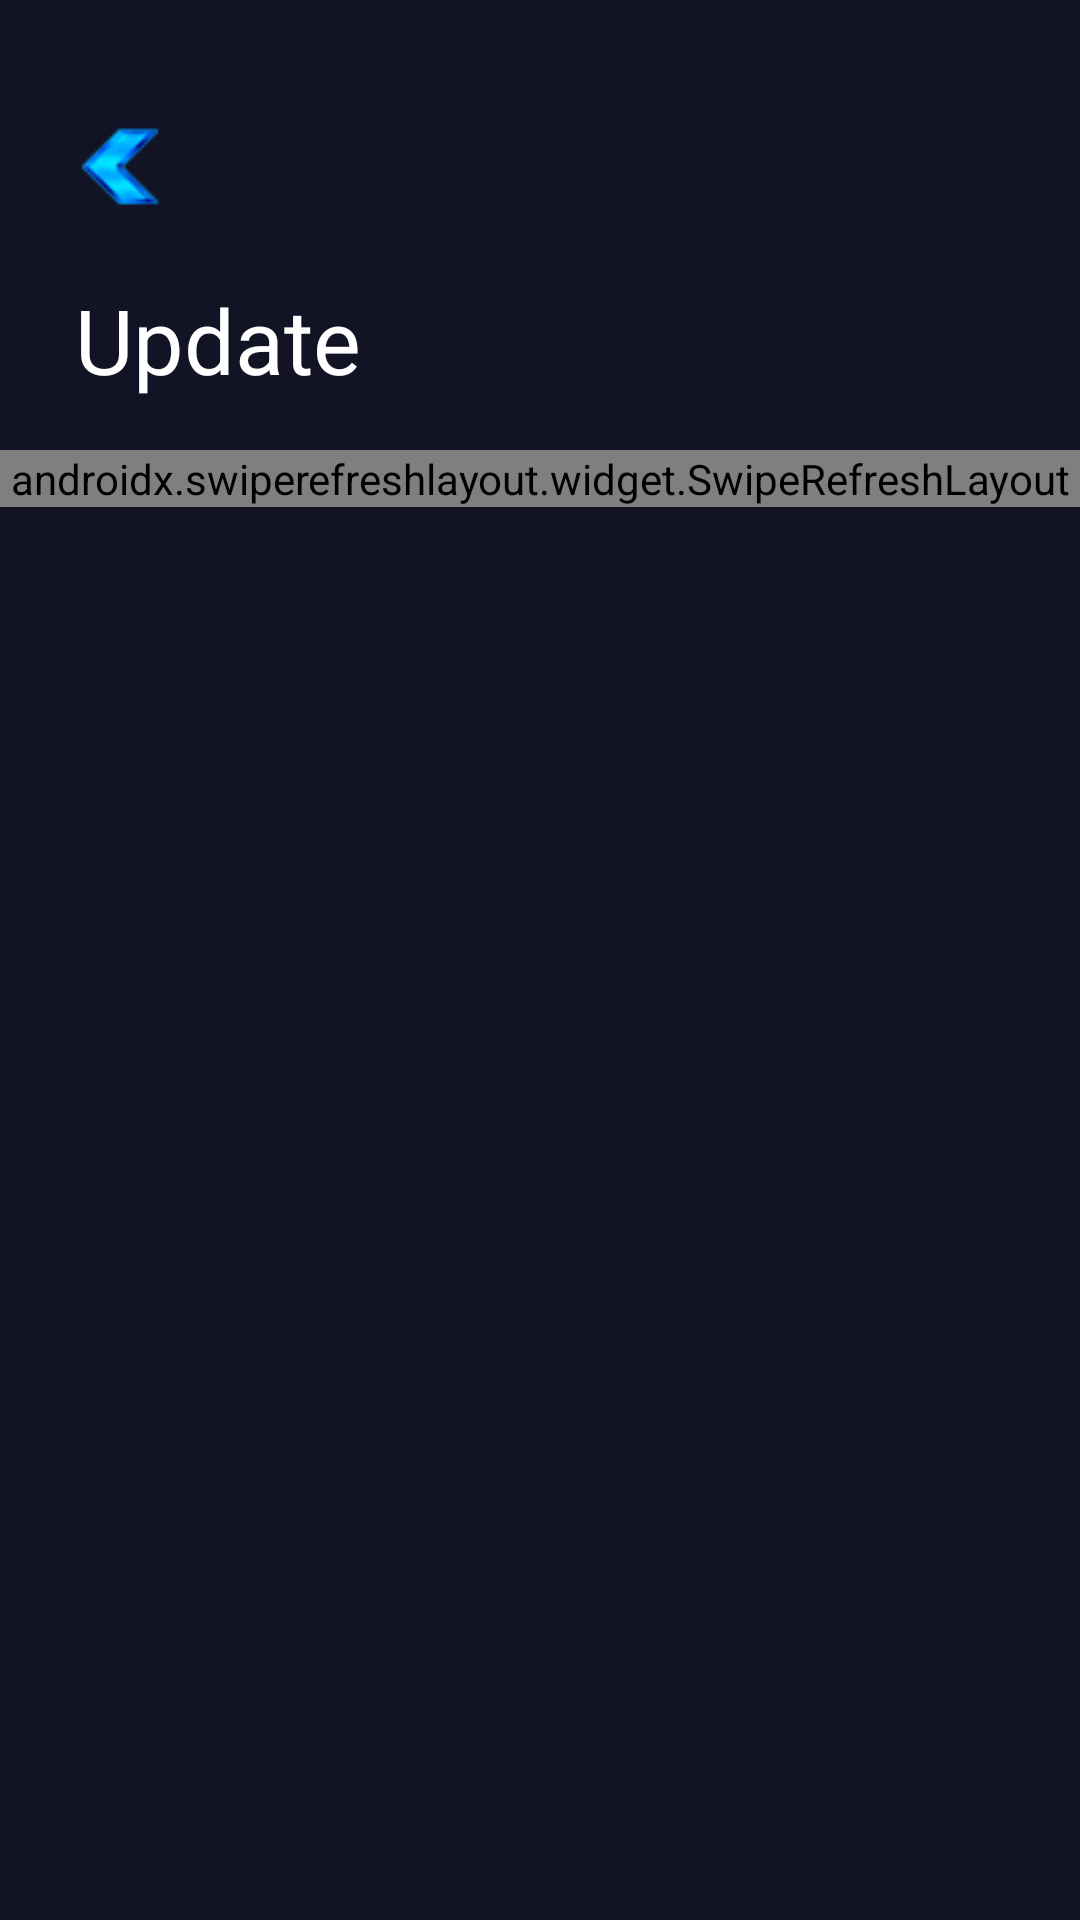

Locate icon controls on the screen. Image size 1080 x 1920, boxes as (x1, y1, x2, y2).
arrow left: (81, 128, 159, 205)
